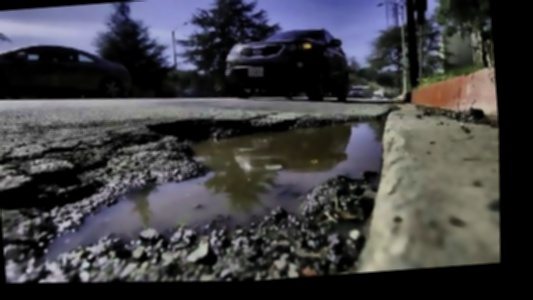pothole: (0, 86, 405, 299)
